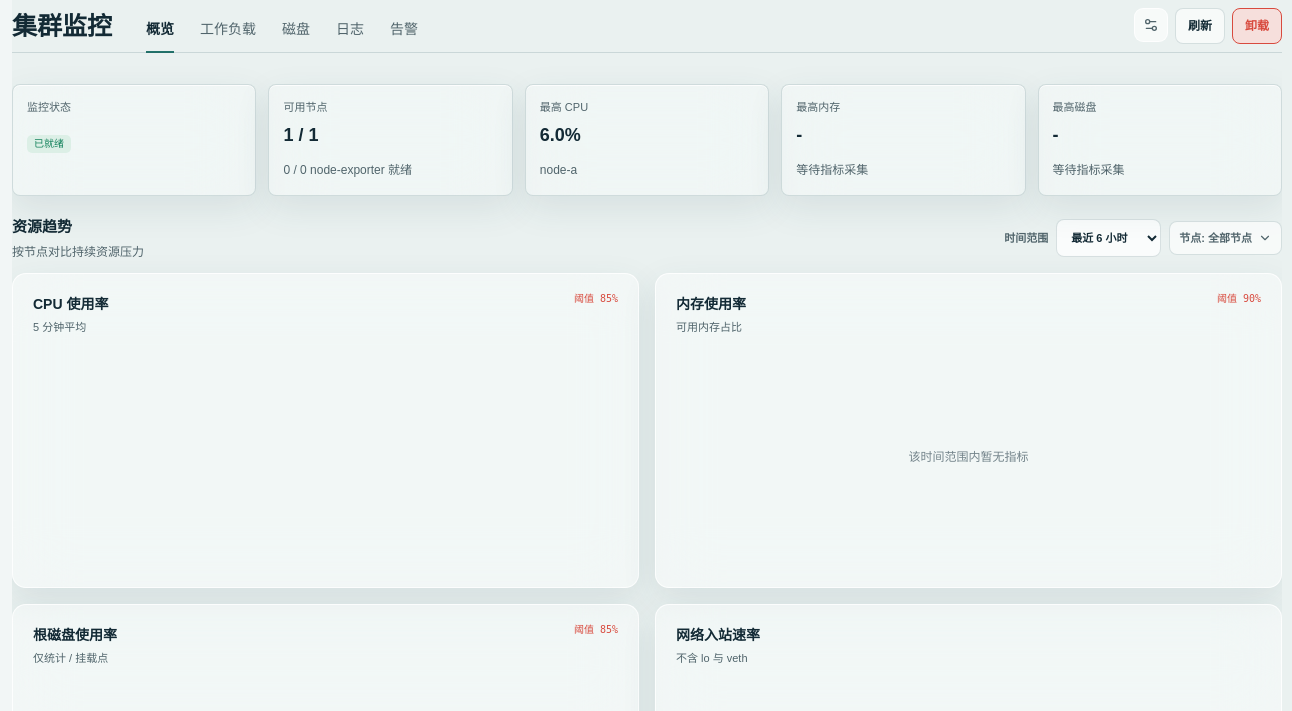
Monitoring view › keeps the loaded monitoring state when a later trend request fails
Select "最近 24 小时" in the dropdown with class "trend-range-select" at {"x": 1109, "y": 238}, box [1056,219,1161,257]
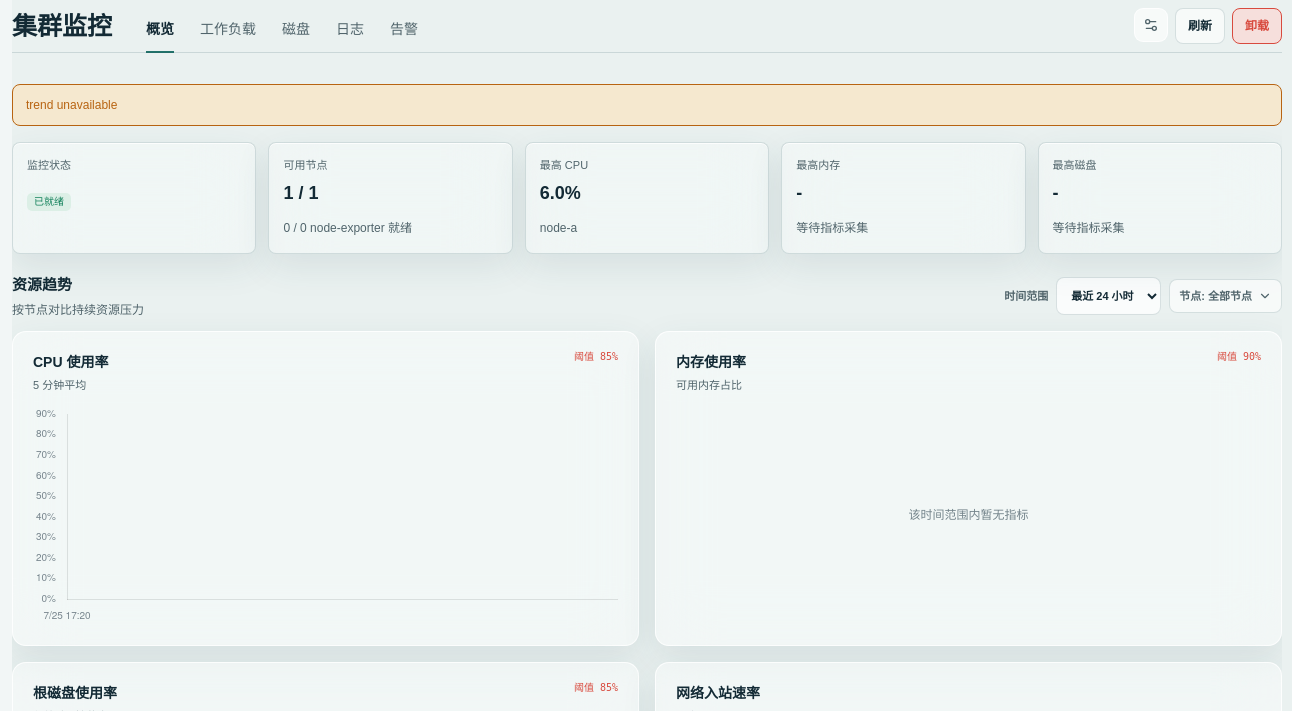
Expected: the text "已就绪" is shown, [27,193,71,211]
Expected: the text "trend unavailable" is shown, [26,96,117,114]
